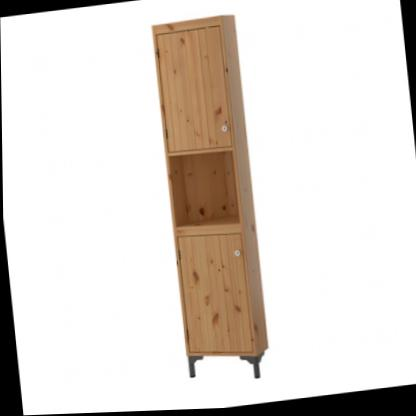Cabinet: (145, 9, 277, 391)
